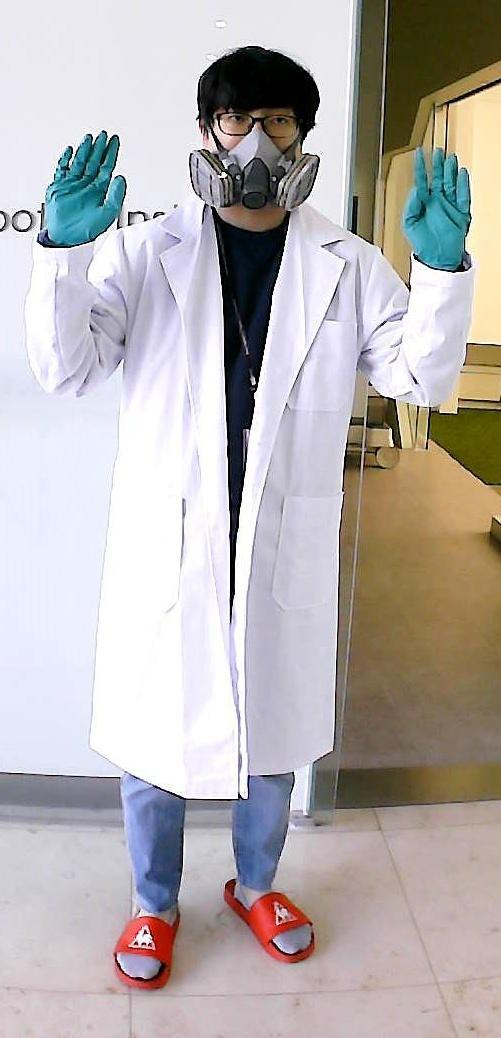lab_coat: (54, 260, 396, 766)
